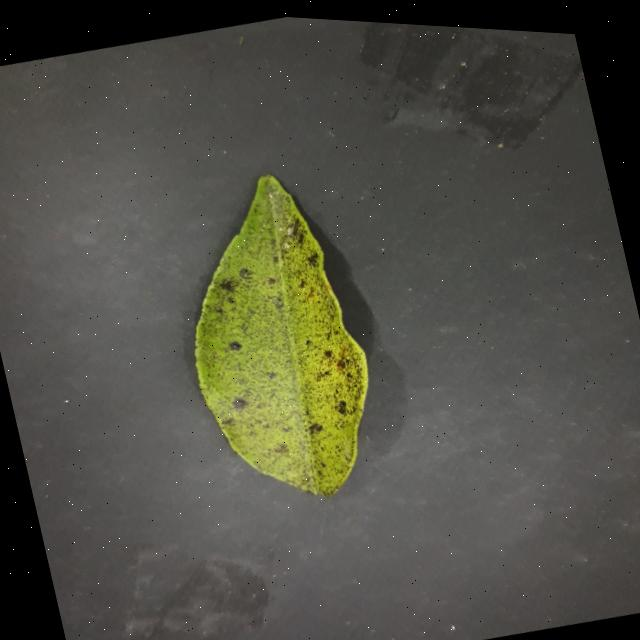greasy_spot: (194, 175, 366, 496)
